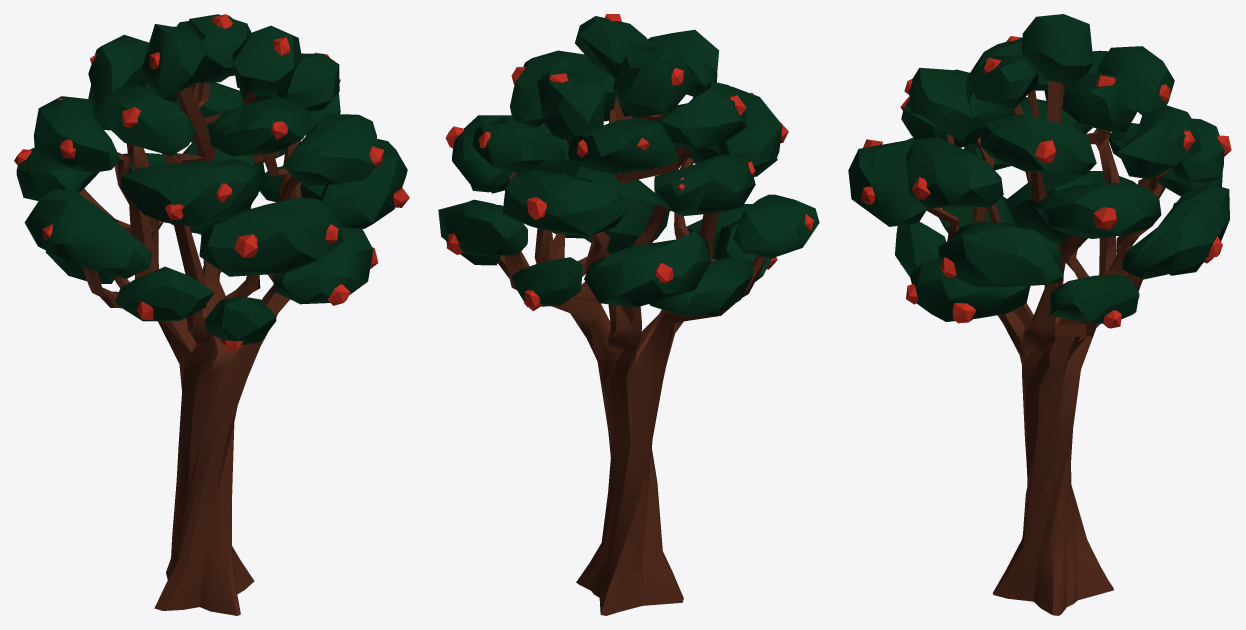
File: Tree_1_High_WF_2.fbx
3 views of the same model, side by side, from view 1: azimuth 30°, elevation 25°; view 2: azimuth 150°, elevation 25°; view 3: azimuth 270°, elevation 25° (orthographic). The views are drawn at different scales.
Visible parts, largest first — view 1: Tree_1_High_WF_2; view 2: Tree_1_High_WF_2; view 3: Tree_1_High_WF_2.
Part boxes in pixels (<box>): Tree_1_High_WF_2: <box>14,14,409,615</box>; Tree_1_High_WF_2: <box>438,14,819,615</box>; Tree_1_High_WF_2: <box>848,14,1231,615</box>.
Size of the model in its own units: 161 by 253 by 157.
